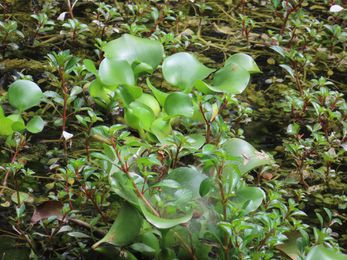water_hyacinth: (1, 33, 267, 254)
